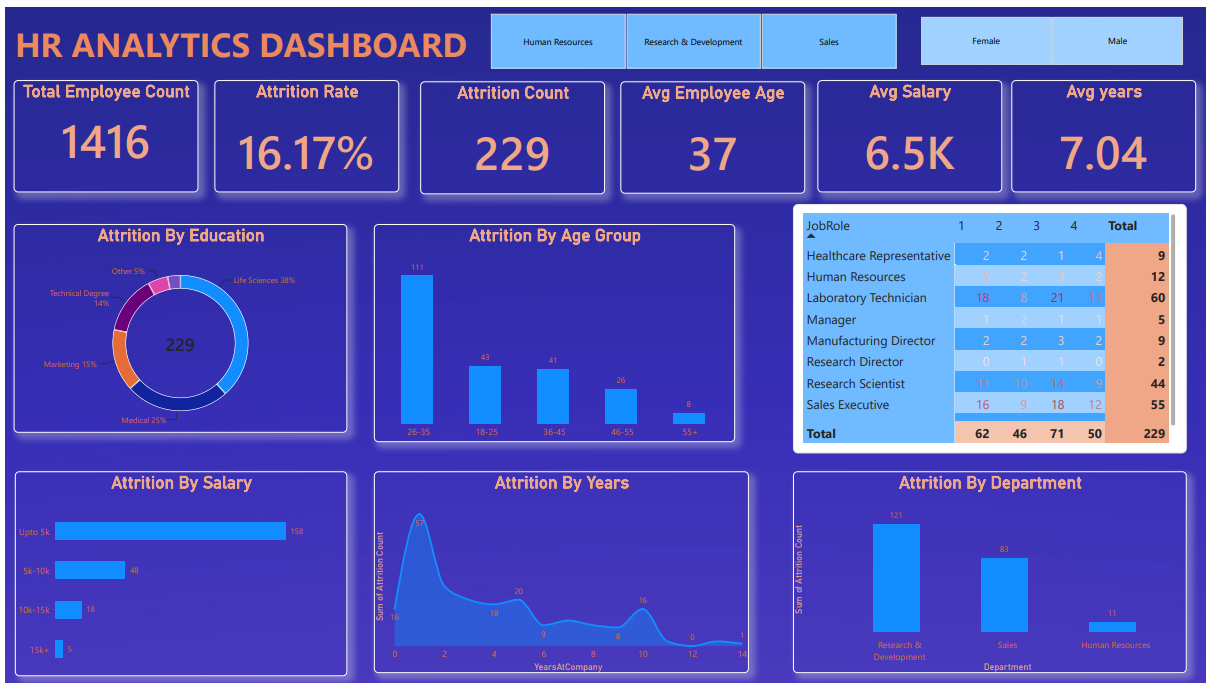

Layout of this report page (visuals, bound fields, positions):
{"tool":"powerbi","page":{"name":"Page 1","canvas":[1920,1080],"ordinal":0},"visuals":[{"type":"cardVisual","title":"Total Employee Count","fields":{"Data":["Sum(HR_Analytics.EmployeeCount)"]},"box":[14.5,117.2,295,179.2],"z":0},{"type":"cardVisual","title":"Attrition Rate","fields":{"Data":["HR_Analytics.Attrition Rate"]},"box":[334.8,117.2,295,179.2],"z":1000},{"type":"cardVisual","title":"Attrition Count","fields":{"Data":["Sum(HR_Analytics.Attrition Count)"]},"box":[664.1,119.4,295,179.2],"z":2000},{"type":"cardVisual","title":"Avg Employee Age","fields":{"Data":["Avg(HR_Analytics.Age)"]},"box":[984.5,119.1,295,179.2],"z":3000},{"type":"cardVisual","title":"Avg Salary","fields":{"Data":["Avg(HR_Analytics.MonthlyIncome)"]},"box":[1299.3,117.2,295,179.2],"z":4000},{"type":"cardVisual","title":"Avg years","fields":{"Data":["Avg(HR_Analytics.YearsAtCompany)"]},"box":[1608.8,117.2,295,179.2],"z":5000},{"type":"donutChart","title":"Attrition By Education","fields":{"Category":["HR_Analytics.EducationField"],"Y":["Sum(HR_Analytics.Attrition Count)"]},"box":[14.5,347.1,532,333],"z":6000},{"type":"clusteredColumnChart","title":"Attrition By Age Group","fields":{"Category":["HR_Analytics.AgeGroup"],"Y":["Sum(HR_Analytics.Attrition Count)"]},"box":[589.9,347.1,577.3,347.5],"z":7000},{"type":"clusteredBarChart","title":"Attrition By Salary","fields":{"Category":["HR_Analytics.SalarySlab"],"Y":["Sum(HR_Analytics.Attrition Count)"]},"box":[16.3,741.6,530.2,327.5],"z":8000},{"type":"pivotTable","title":"Attrition By Education","fields":{"Columns":["HR_Analytics.JobSatisfaction"],"Rows":["HR_Analytics.JobRole"],"Values":["Sum(HR_Analytics.Attrition Count)"]},"box":[1259.5,314.9,629.8,398.1],"z":9000},{"type":"areaChart","title":"Attrition By Years","fields":{"Category":["HR_Analytics.YearsAtCompany"],"Y":["Sum(HR_Analytics.Attrition Count)"]},"box":[589.9,742,599,322.1],"z":10000},{"type":"columnChart","title":"Attrition By Department","fields":{"Category":["HR_Analytics.Department"],"Y":["Sum(HR_Analytics.Attrition Count)"]},"box":[1259.5,742,629.8,322.1],"z":11000},{"type":"textbox","box":[100,100,300,300],"z":12000},{"type":"textbox","box":[16.3,21.7,740.2,77.8],"z":13000},{"type":"slicer","fields":{"Values":["HR_Analytics.Department"]},"box":[756.4,9,687.7,90.5],"z":14000},{"type":"slicer","fields":{"Values":["HR_Analytics.Gender"]},"box":[1444.1,14.5,457.8,79.6],"z":15000}]}

Visuals, with their boxes in screenshot pixels (x1, y1, x2, y2), scaled from the page's 1920x1080 canvas onto the 1210x689 screenshot:
"Total Employee Count" cardVisual: bbox=[9, 75, 195, 189]
"Attrition Rate" cardVisual: bbox=[211, 75, 397, 189]
"Attrition Count" cardVisual: bbox=[419, 76, 604, 190]
"Avg Employee Age" cardVisual: bbox=[620, 76, 806, 190]
"Avg Salary" cardVisual: bbox=[819, 75, 1005, 189]
"Avg years" cardVisual: bbox=[1014, 75, 1200, 189]
"Attrition By Education" donutChart: bbox=[9, 221, 344, 434]
"Attrition By Age Group" clusteredColumnChart: bbox=[372, 221, 736, 443]
"Attrition By Salary" clusteredBarChart: bbox=[10, 473, 344, 682]
"Attrition By Education" pivotTable: bbox=[794, 201, 1191, 455]
"Attrition By Years" areaChart: bbox=[372, 473, 749, 679]
"Attrition By Department" columnChart: bbox=[794, 473, 1191, 679]
textbox: bbox=[63, 64, 252, 255]
textbox: bbox=[10, 14, 477, 63]
slicer - HR_Analytics.Department: bbox=[477, 6, 910, 63]
slicer - HR_Analytics.Gender: bbox=[910, 9, 1199, 60]
